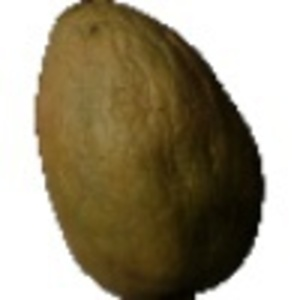mamão: (27, 2, 269, 296)
